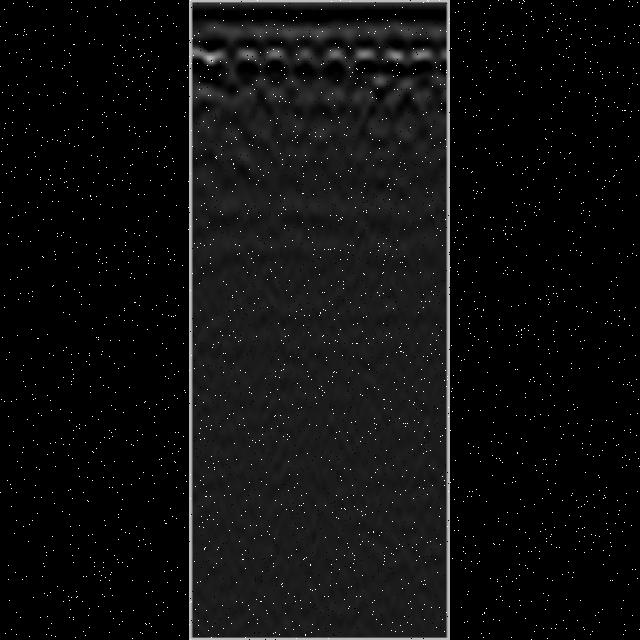hyperbola: (315, 41, 357, 83), (257, 46, 299, 84), (231, 47, 271, 85), (380, 41, 414, 85), (348, 48, 384, 86), (291, 43, 327, 79), (411, 48, 439, 86)
